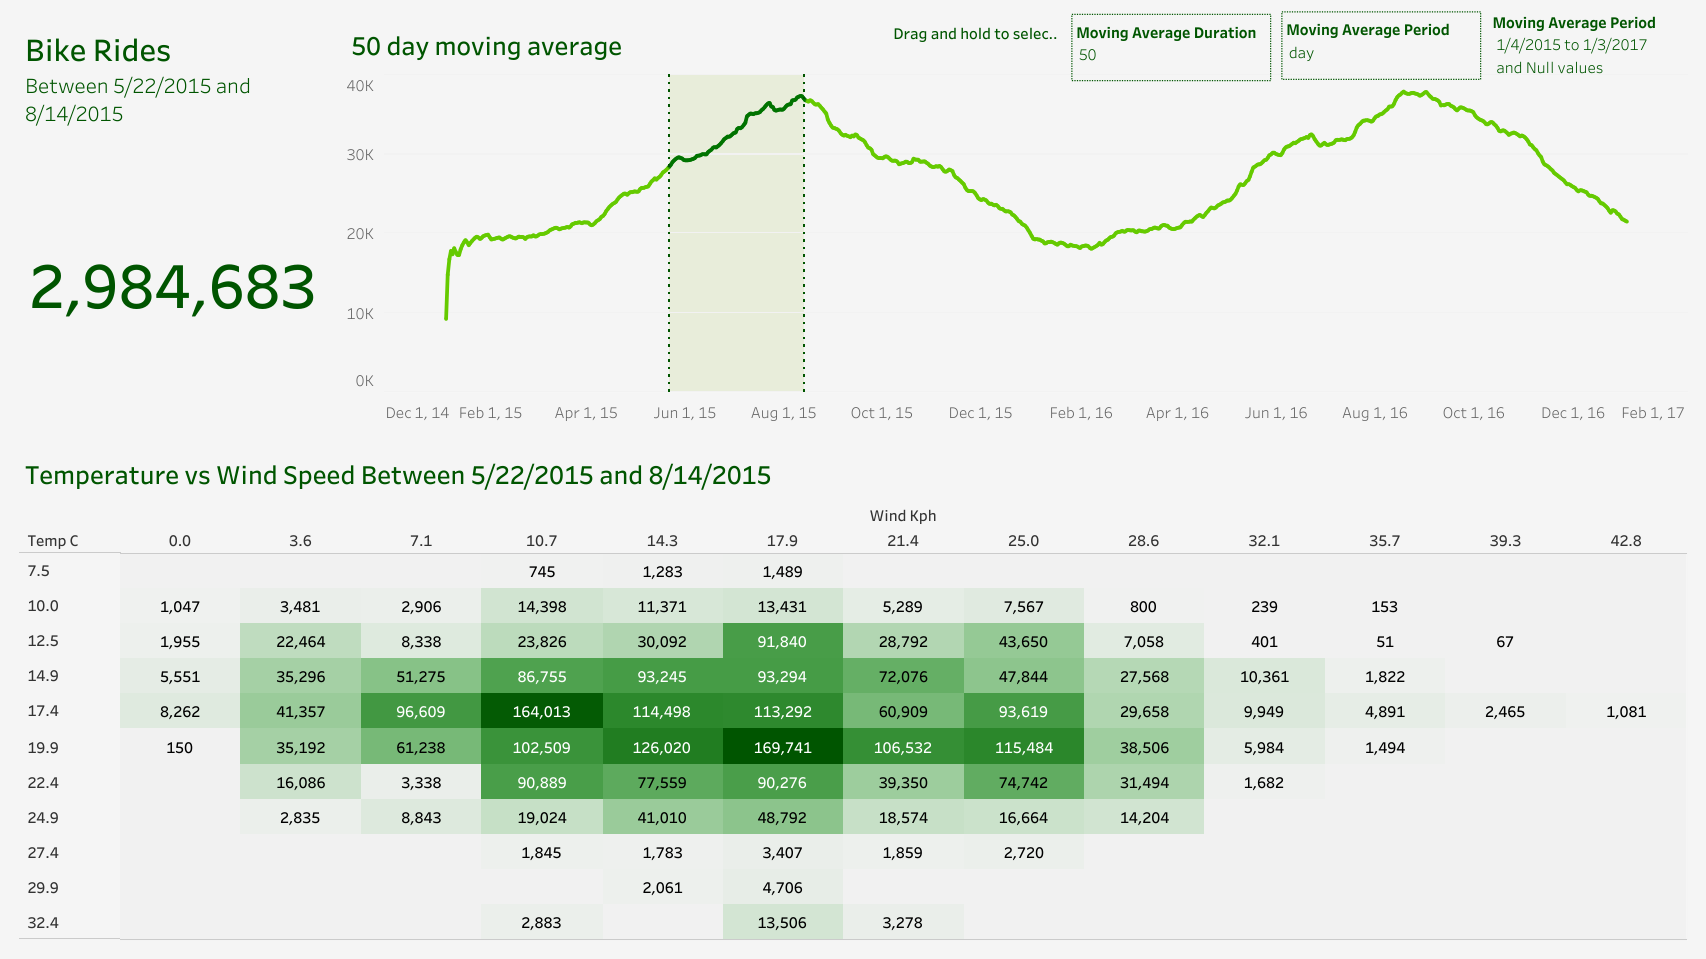

Layout of this report page (visuals, bound fields, positions):
{"tool":"tableau","page":{"name":"Dashboard 1","canvas":[1366,768],"ordinal":0},"visuals":[{"type":"filter","title":"MovingAverage","param":"[federated.02smdba1jrxsht18l0e3j1uzi1r4].[none:Calculation_1575415503129722883:q","box":[1194,7,168,67]},{"type":"worksheet","title":"TotalRides","mark":"Automatic","box":[8,8,278,376]},{"type":"worksheet","title":"MovingAverage","mark":"Automatic","rows":["Calculation1"],"cols":["Calculation_1575415503129722883"],"box":[286,8,1072,376]},{"type":"parameter","param":"[Parameters].[Parameter 1]","box":[1025,9,160,55]},{"type":"parameter","param":"[Parameters].[Parameter 2]","box":[857,11,160,54]},{"type":"text","box":[712,16,137,34]},{"type":"worksheet","title":"HeatMap","mark":"Square","rows":["temp real C (bin)"],"cols":["Wind Speed Kph (bin)"],"box":[8,384,1350,376]}]}

Visuals, with their boxes in screenshot pixels (x1, y1, x2, y2), scaled from the page's 1366x768 canvas onto the 1706x959 screenshot:
"MovingAverage" filter: l=1491, t=9, r=1701, b=92
"TotalRides" worksheet: l=10, t=10, r=357, b=480
"MovingAverage" worksheet: l=357, t=10, r=1696, b=480
parameter: l=1280, t=11, r=1480, b=80
parameter: l=1070, t=14, r=1270, b=81
text: l=889, t=20, r=1060, b=62
"HeatMap" worksheet (Square marks): l=10, t=480, r=1696, b=949
